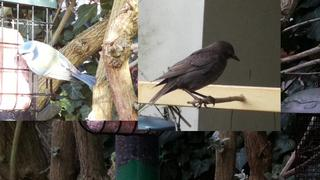blue tit: (16, 40, 98, 88)
starling: (149, 40, 241, 109)
